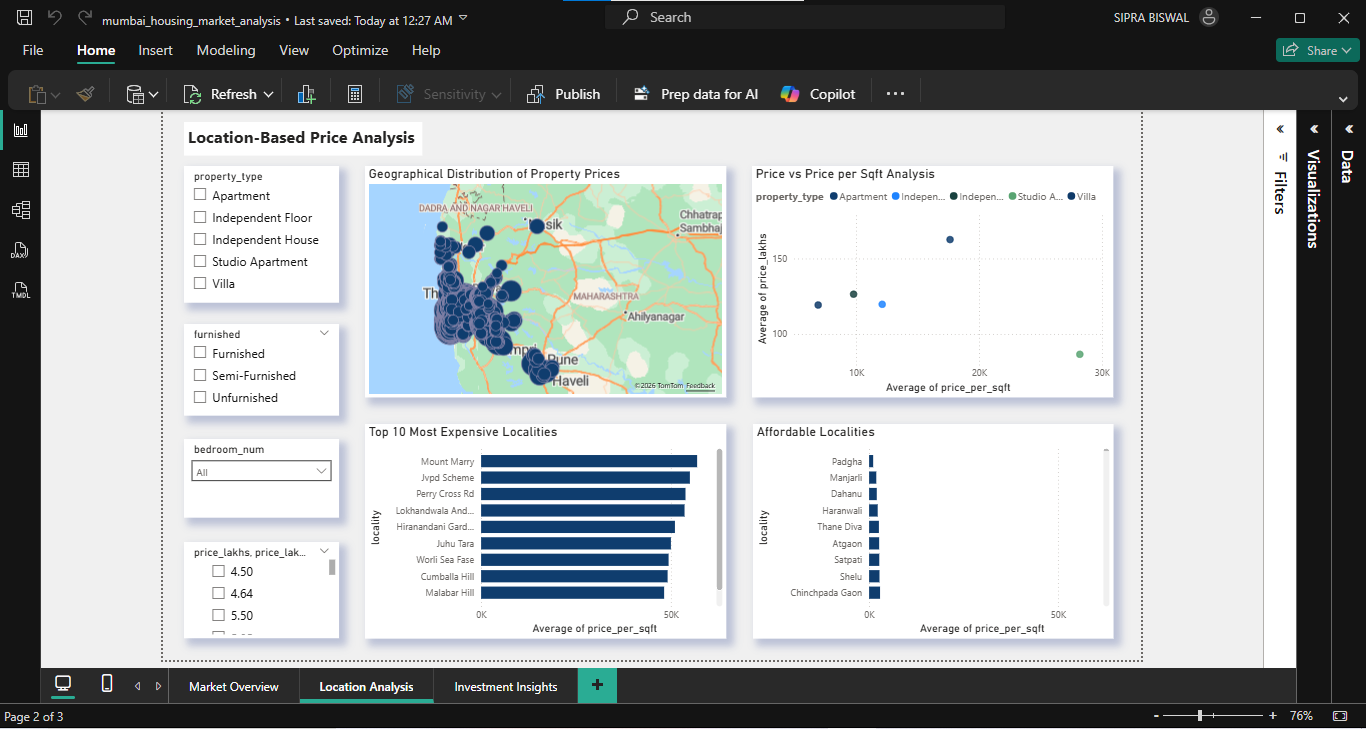

The dashboard page shown, as its layout file describes it:
{"tool":"powerbi","page":{"name":"Location Analysis","canvas":[1280,720],"ordinal":1},"visuals":[{"type":"azureMap","title":"Geographical Distribution of  Property Prices","fields":{"Y":["Mumbai_housing_market_data.latitude"],"X":["Mumbai_housing_market_data.longitude"],"Size":["Avg(Mumbai_housing_market_data.price_lakhs)"]},"box":[264.5,73.5,473.1,302.7],"z":0},{"type":"clusteredBarChart","title":"Top 10 Most Expensive Localities","fields":{"Y":["Avg(Mumbai_housing_market_data.price_per_sqft)"],"Category":["Mumbai_housing_market_data.locality"]},"box":[264.5,411.4,473.1,280.7],"z":1000},{"type":"clusteredBarChart","title":"Affordable Localities","fields":{"Y":["Avg(Mumbai_housing_market_data.price_per_sqft)"],"Category":["Mumbai_housing_market_data.locality"]},"box":[772.9,411.4,471.7,280.7],"z":2000},{"type":"slicer","fields":{"Values":["Mumbai_housing_market_data.property_type"]},"box":[27.9,73.5,202.8,179.3],"z":3000},{"type":"slicer","fields":{"Values":["Mumbai_housing_market_data.bedroom_num"]},"box":[27.9,430.5,202.8,102.9],"z":4000},{"type":"slicer","fields":{"Values":["Mumbai_housing_market_data.price_lakhs","Mumbai_housing_market_data.price_lakhs"]},"box":[27.9,565.7,202.8,126.4],"z":5000},{"type":"slicer","fields":{"Values":["Mumbai_housing_market_data.furnished"]},"box":[27.9,280.7,202.8,120.5],"z":6000},{"type":"scatterChart","title":"Price vs Price per Sqft Analysis","fields":{"X":["Avg(Mumbai_housing_market_data.price_per_sqft)"],"Y":["Avg(Mumbai_housing_market_data.price_lakhs)"],"Series":["Mumbai_housing_market_data.property_type"]},"box":[771.4,73.5,473.1,302.7],"z":7000},{"type":"textbox","box":[27.9,16.2,311.5,44.1],"z":8000}]}

Visuals, with their boxes on the page's 1280x720 design canvas (x1, y1, x2, y2). These are canvas units, not pixel positions in the 1366x729 screenshot, which may show the page scaled, cropped or inside an application window:
"Geographical Distribution of  Property Prices" azureMap: detection(264, 74, 738, 376)
"Top 10 Most Expensive Localities" clusteredBarChart: detection(264, 411, 738, 692)
"Affordable Localities" clusteredBarChart: detection(773, 411, 1245, 692)
slicer - Mumbai_housing_market_data.property_type: detection(28, 74, 231, 253)
slicer - Mumbai_housing_market_data.bedroom_num: detection(28, 430, 231, 533)
slicer - Mumbai_housing_market_data.price_lakhs x Mumbai_housing_market_data.price_lakhs: detection(28, 566, 231, 692)
slicer - Mumbai_housing_market_data.furnished: detection(28, 281, 231, 401)
"Price vs Price per Sqft Analysis" scatterChart: detection(771, 74, 1244, 376)
textbox: detection(28, 16, 339, 60)
